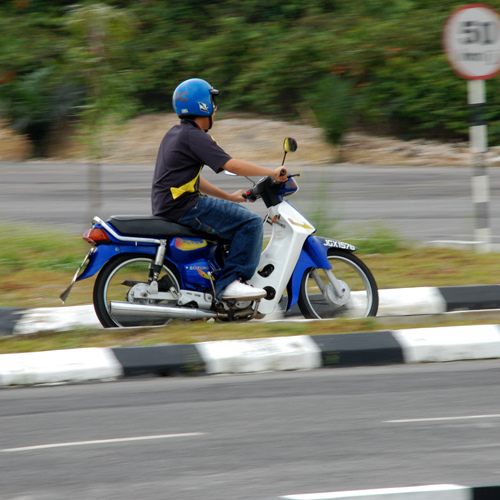helmet: (172, 75, 215, 120)
